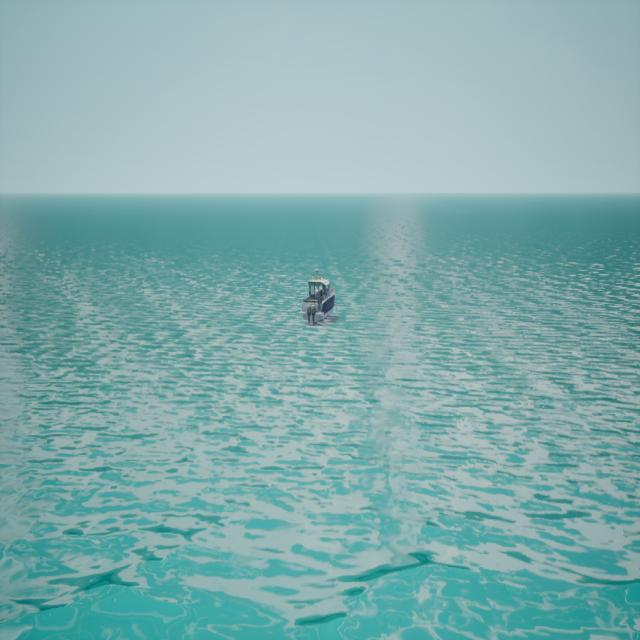ship: (302, 268, 336, 326)
